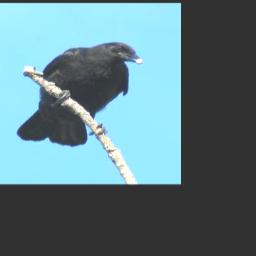Crow: (15, 41, 144, 148)
